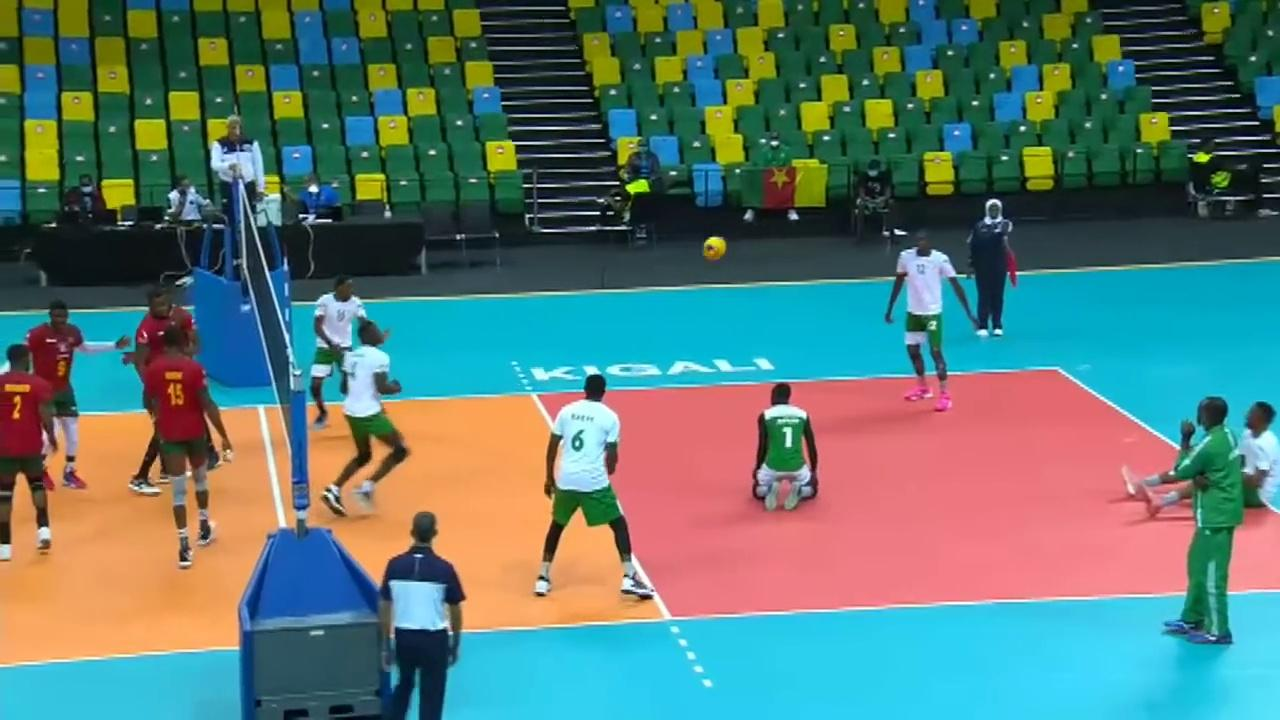player: (533, 373, 663, 600), (146, 330, 238, 571), (1120, 399, 1280, 515), (129, 288, 213, 497), (23, 301, 109, 493), (325, 332, 410, 516), (885, 229, 966, 414), (0, 340, 60, 564), (306, 272, 376, 413), (751, 384, 825, 509)
refree: (378, 512, 470, 719), (210, 109, 274, 261), (963, 197, 1019, 336)
